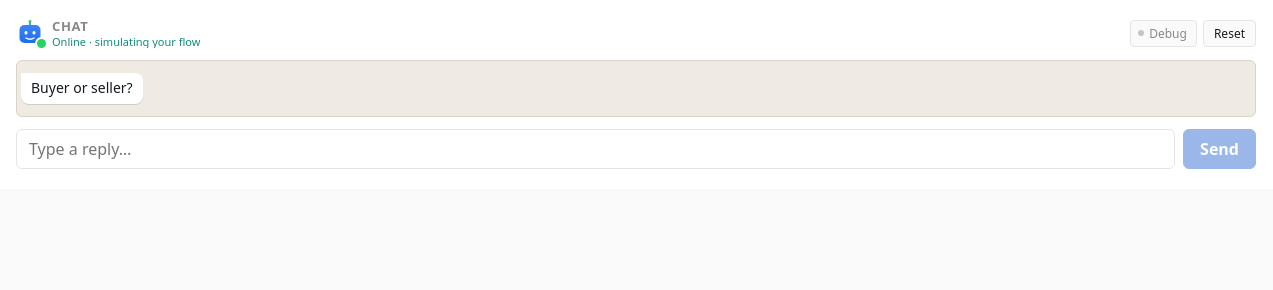
ChatPanel › debug toggle (designer-only step trace) › renders node labels from the flow instead of raw IDs when flow is provided
Step 1. Click the button with test id "chat-debug-toggle" → coordinates (1164, 33), box [1130,20,1197,47]
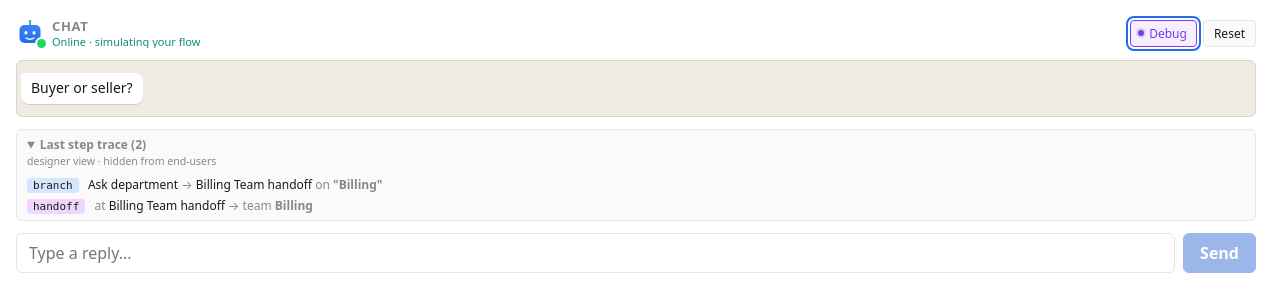
Expected: the element with test id "chat-events" shows "Ask department", [88,176,178,193]
Expected: the element with test id "chat-events" shows "Billing Team handoff", [196,176,312,193]
Expected: the text "Ask department" is shown, [88,176,178,194]
